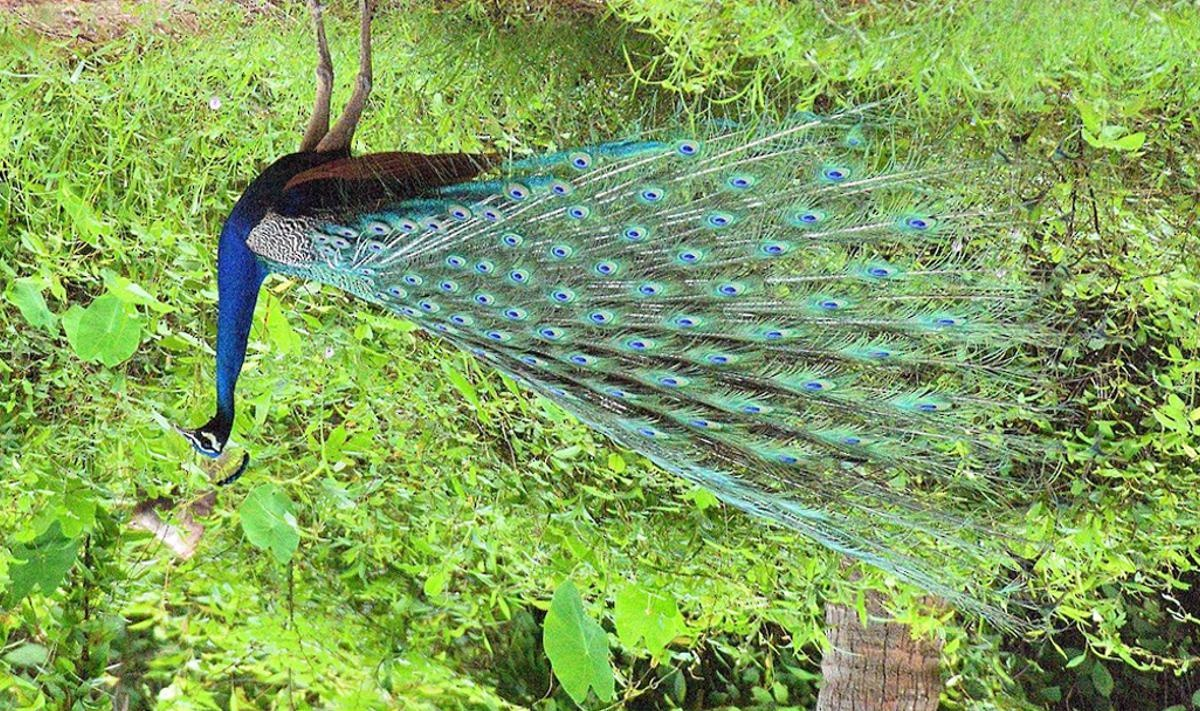peacock: (167, 36, 1046, 631)
